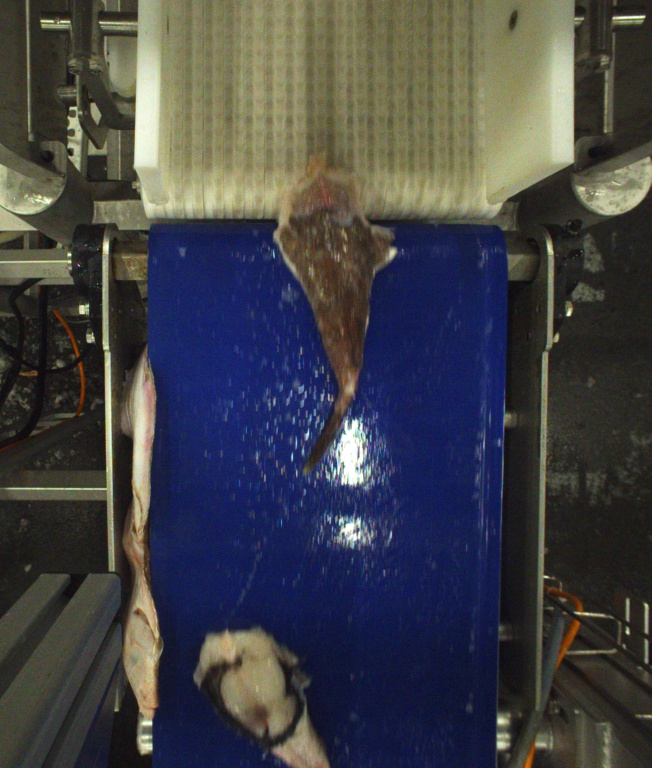ANF: (198, 625, 330, 768)
